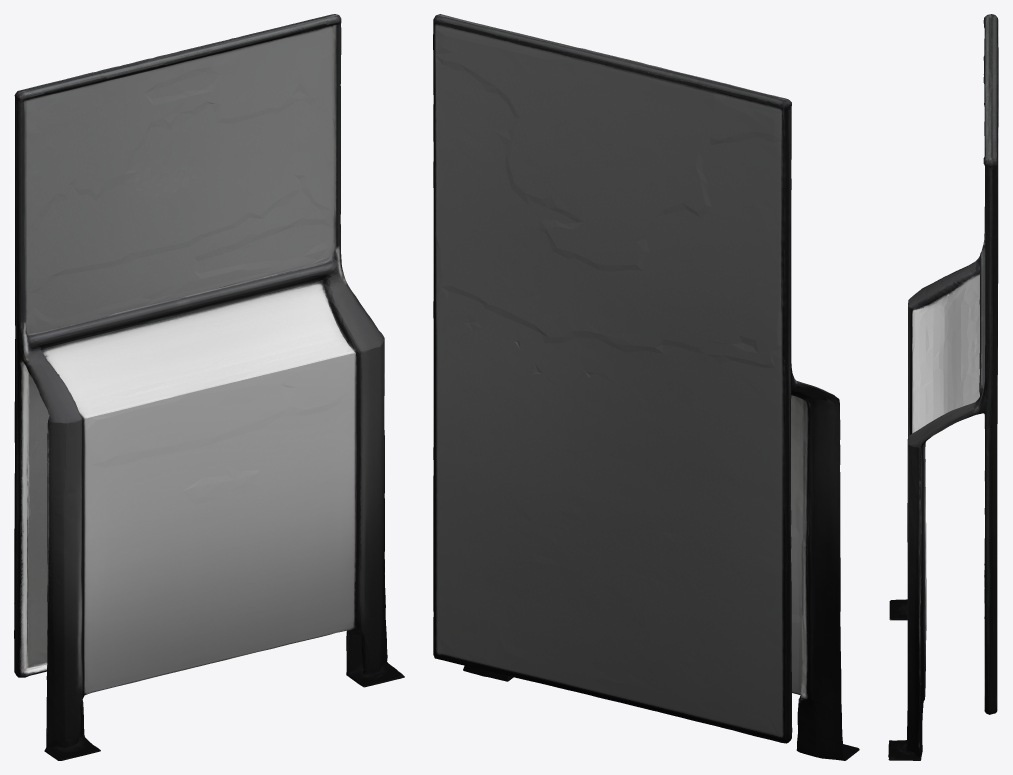
3 renders of one model, left to right at view 1: azimuth 30°, elevation 25°; view 2: azimuth 150°, elevation 25°; view 3: azimuth 270°, elevation 25°, orthographic. The views are drawn at different scales.
Parts seen in each view (by area): view 1: world; view 2: world; view 3: world.
Boxes of the visible parts, x1=… form: world: x1=14, y1=14, x2=404, y2=760; world: x1=433, y1=14, x2=859, y2=760; world: x1=888, y1=14, x2=998, y2=760.
Size of the model in its own units: 0.5806 by 1 by 0.1683.
Materials: 1 (1 with a texture image).
